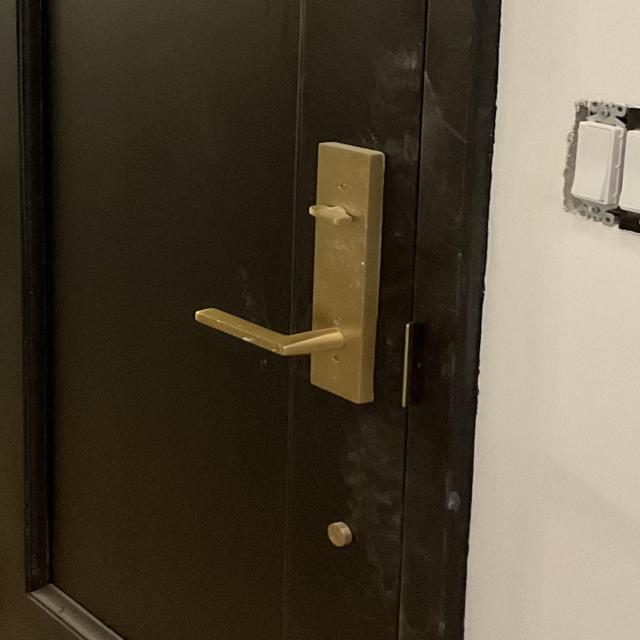door_handle: (188, 297, 363, 365)
